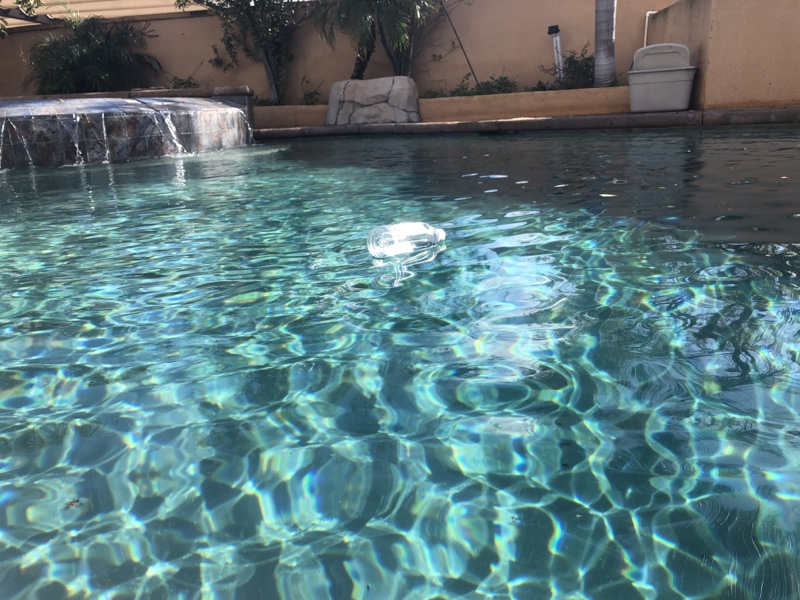Plastic Bottle: (361, 218, 456, 262)
